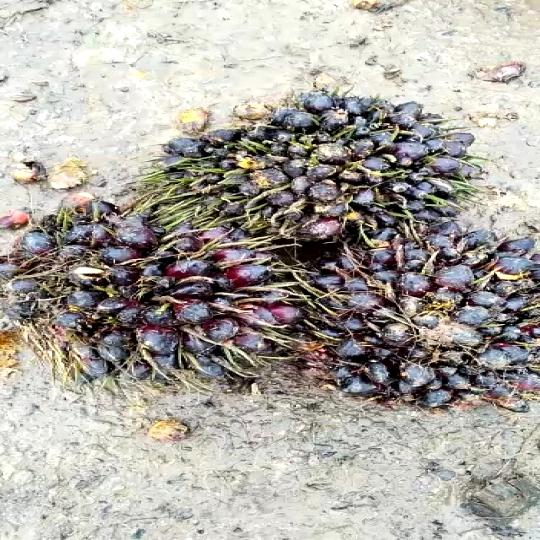mentah: (32, 190, 307, 384), (285, 223, 540, 414), (203, 77, 469, 254)
